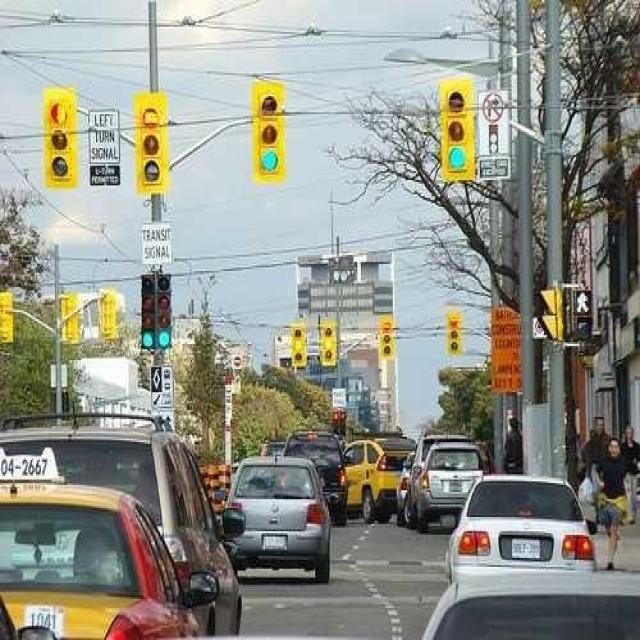Traffic Light -Green-: (138, 273, 176, 351), (443, 86, 472, 185), (257, 89, 282, 171)
Traffic Light -Red-: (43, 90, 79, 184), (137, 96, 165, 189), (378, 314, 397, 360), (447, 316, 461, 354)
Traffic Light -Yellow-: (140, 132, 162, 187), (319, 322, 340, 368), (289, 321, 307, 370)
